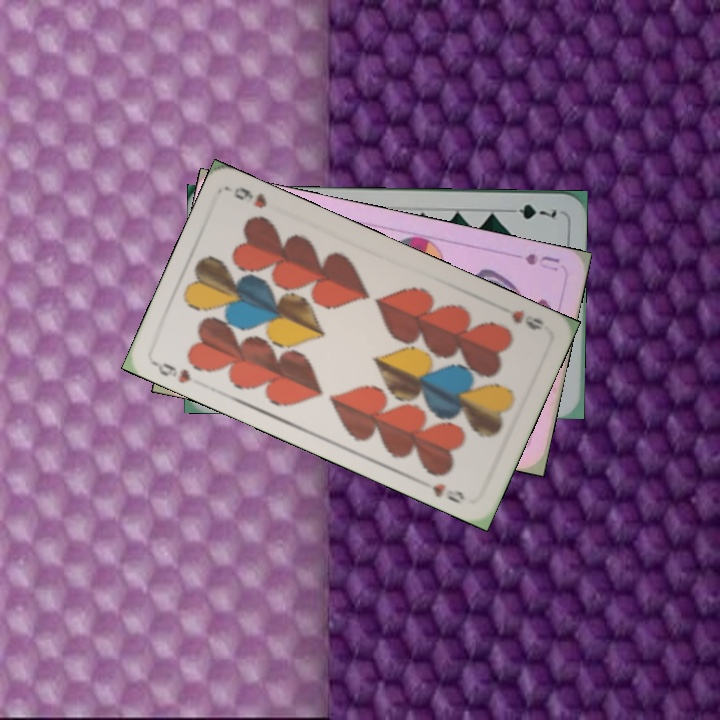G7: (502, 200, 559, 222)
H9: (150, 358, 194, 386), (507, 305, 546, 333)
SU: (520, 249, 562, 274)
